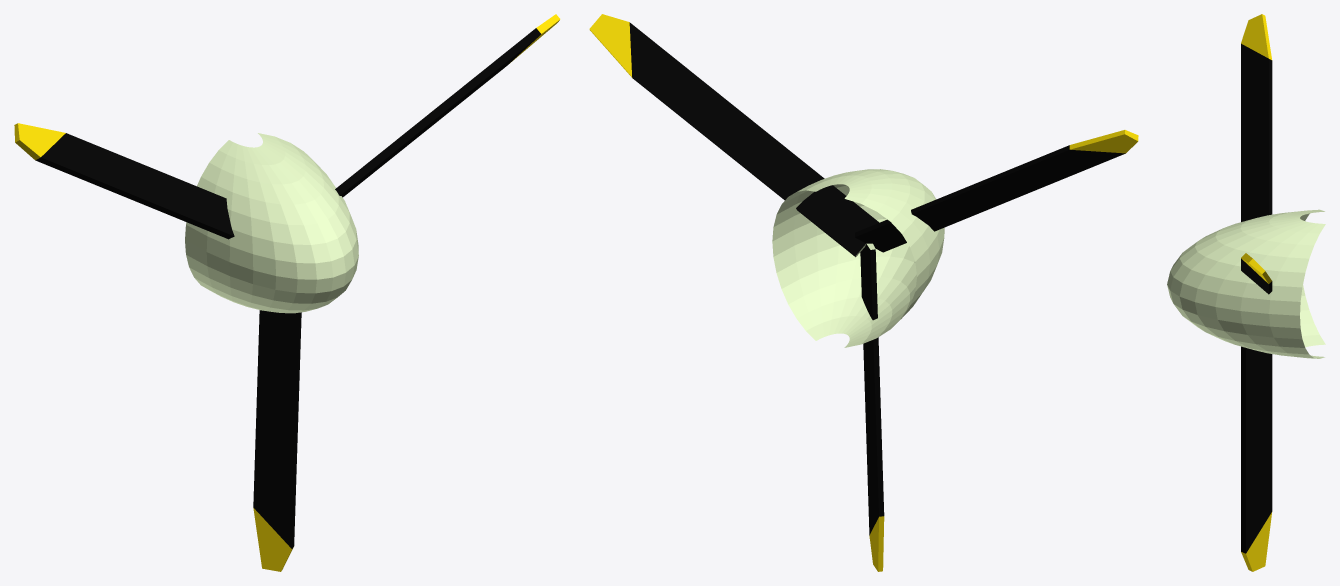
Rendered from spitfirePropSlow.obj.
3 renders of one model, left to right at view 1: azimuth 30°, elevation 25°; view 2: azimuth 150°, elevation 25°; view 3: azimuth 270°, elevation 25°, orthographic. The views are drawn at different scales.
Visible parts, largest first — view 1: Sphere; view 2: Sphere; view 3: Sphere.
Boxes of the visible parts, <box> form: Sphere: <box>14,14,560,571</box>; Sphere: <box>589,14,1138,571</box>; Sphere: <box>1167,14,1325,571</box>.
Size of the model in its own units: 2.26 by 1.99 by 0.6433.
